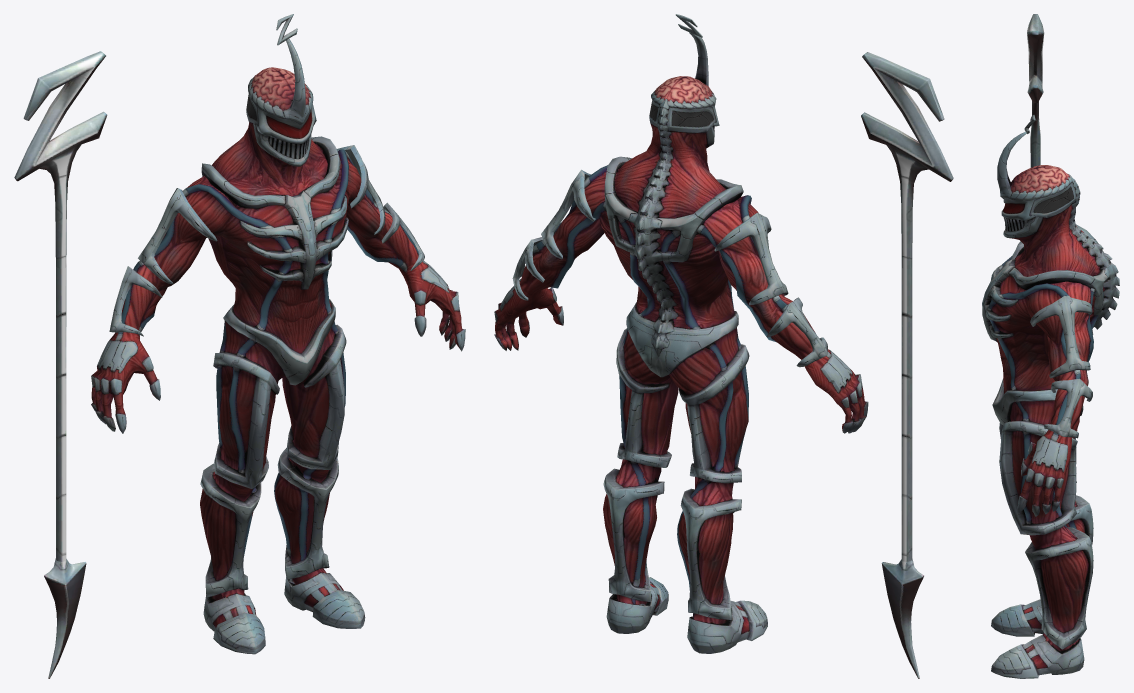
The model's file is Zedd_S01_T1_lordZedd_msh.obj.
3 renders of one model, left to right at view 1: azimuth 30°, elevation 25°; view 2: azimuth 150°, elevation 25°; view 3: azimuth 270°, elevation 25°, orthographic. The views are drawn at different scales.
Parts seen in each view (by area): view 1: Zedd_S01_T1_lordZedd_msh_0, Zedd_S01_T1_staff_msh_0; view 2: Zedd_S01_T1_lordZedd_msh_0, Zedd_S01_T1_staff_msh_0; view 3: Zedd_S01_T1_lordZedd_msh_0, Zedd_S01_T1_staff_msh_0.
Boxes of the visible parts, bbox=[...] form: Zedd_S01_T1_lordZedd_msh_0: bbox=[91, 14, 465, 654]; Zedd_S01_T1_staff_msh_0: bbox=[14, 51, 107, 678]; Zedd_S01_T1_lordZedd_msh_0: bbox=[494, 14, 868, 653]; Zedd_S01_T1_staff_msh_0: bbox=[861, 52, 953, 678]; Zedd_S01_T1_lordZedd_msh_0: bbox=[982, 115, 1119, 678]; Zedd_S01_T1_staff_msh_0: bbox=[1027, 14, 1044, 167].
Size of the model in its own units: 2.84 by 3.73 by 0.8598.
